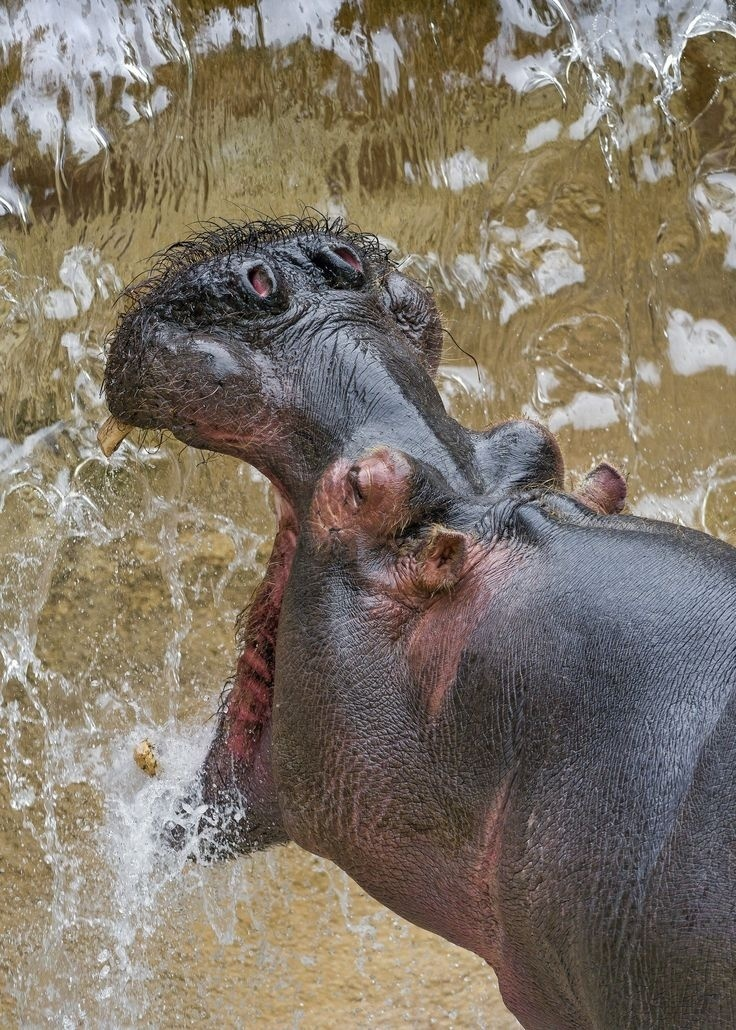hipopotamo: (83, 178, 736, 1030)
